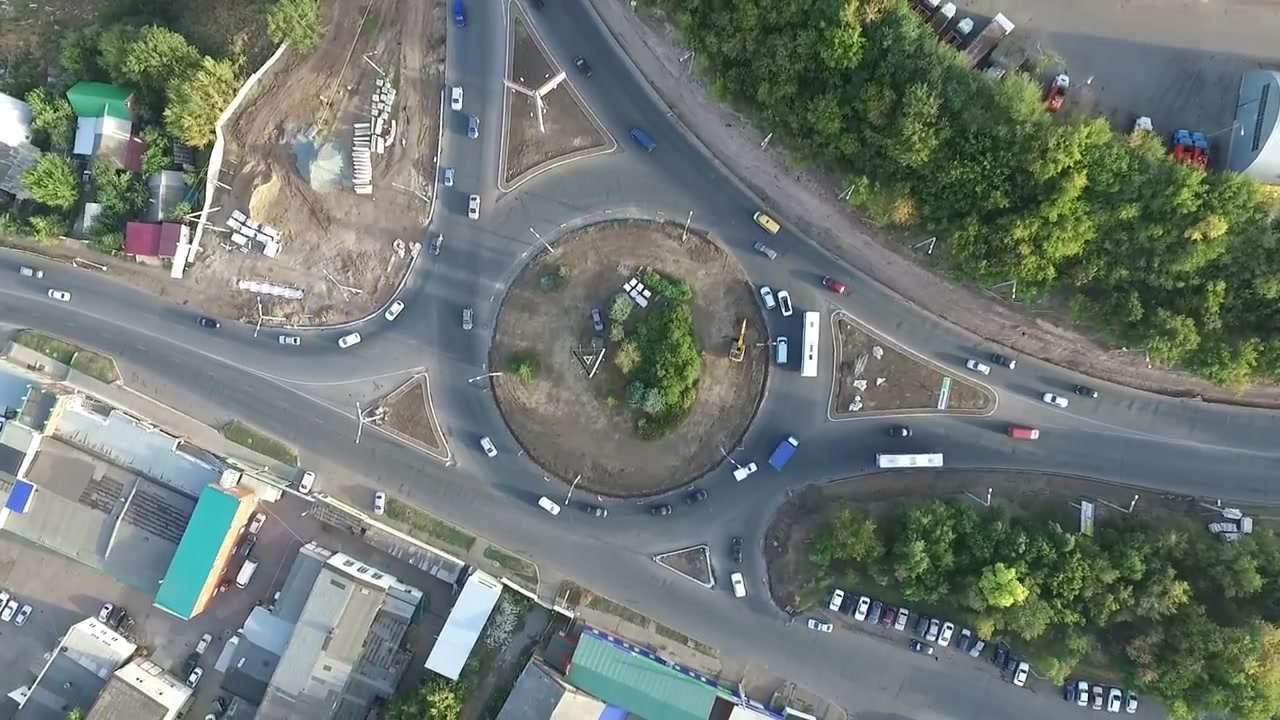car: (766, 433, 800, 473), (874, 451, 944, 470), (801, 310, 819, 378), (1044, 71, 1072, 113), (232, 557, 261, 591), (1172, 127, 1193, 170), (751, 209, 782, 237), (1190, 130, 1210, 172), (628, 127, 657, 154), (1006, 424, 1041, 442), (235, 534, 261, 558), (732, 460, 759, 482), (839, 593, 863, 617), (535, 495, 562, 516), (383, 298, 406, 322), (478, 435, 500, 460), (12, 602, 34, 627), (336, 330, 363, 350), (572, 55, 594, 79), (753, 240, 778, 261), (730, 570, 748, 599), (776, 289, 794, 318), (908, 638, 935, 657), (965, 357, 992, 376), (1012, 660, 1030, 688), (821, 276, 847, 295), (806, 617, 835, 634), (853, 594, 870, 623), (990, 352, 1017, 370), (246, 511, 267, 534), (185, 666, 206, 689), (1106, 684, 1122, 714), (451, 1, 468, 29), (937, 620, 954, 648), (729, 534, 744, 565), (466, 193, 482, 222), (1133, 113, 1155, 134), (194, 631, 214, 654), (1042, 392, 1069, 409), (968, 635, 987, 659), (1, 597, 19, 622), (912, 614, 930, 639), (759, 285, 777, 310), (298, 470, 316, 494), (867, 599, 883, 626), (428, 232, 445, 257), (17, 265, 45, 280), (465, 115, 481, 141), (894, 606, 910, 632), (1073, 383, 1099, 399), (585, 503, 609, 520), (685, 488, 709, 505), (881, 605, 897, 630), (182, 652, 200, 674), (96, 600, 113, 623), (589, 306, 604, 332), (829, 588, 844, 614), (1091, 683, 1104, 712), (925, 617, 940, 642), (109, 606, 126, 628), (450, 85, 464, 111), (196, 316, 222, 330), (47, 288, 73, 302), (1076, 679, 1089, 707), (775, 336, 788, 364), (1126, 688, 1139, 715), (372, 491, 386, 516), (957, 627, 971, 652), (650, 503, 673, 518), (888, 425, 914, 438), (461, 306, 474, 331), (277, 334, 302, 347), (1005, 650, 1018, 675), (1062, 677, 1075, 701), (994, 642, 1006, 668), (443, 166, 456, 188), (1, 589, 11, 612)
